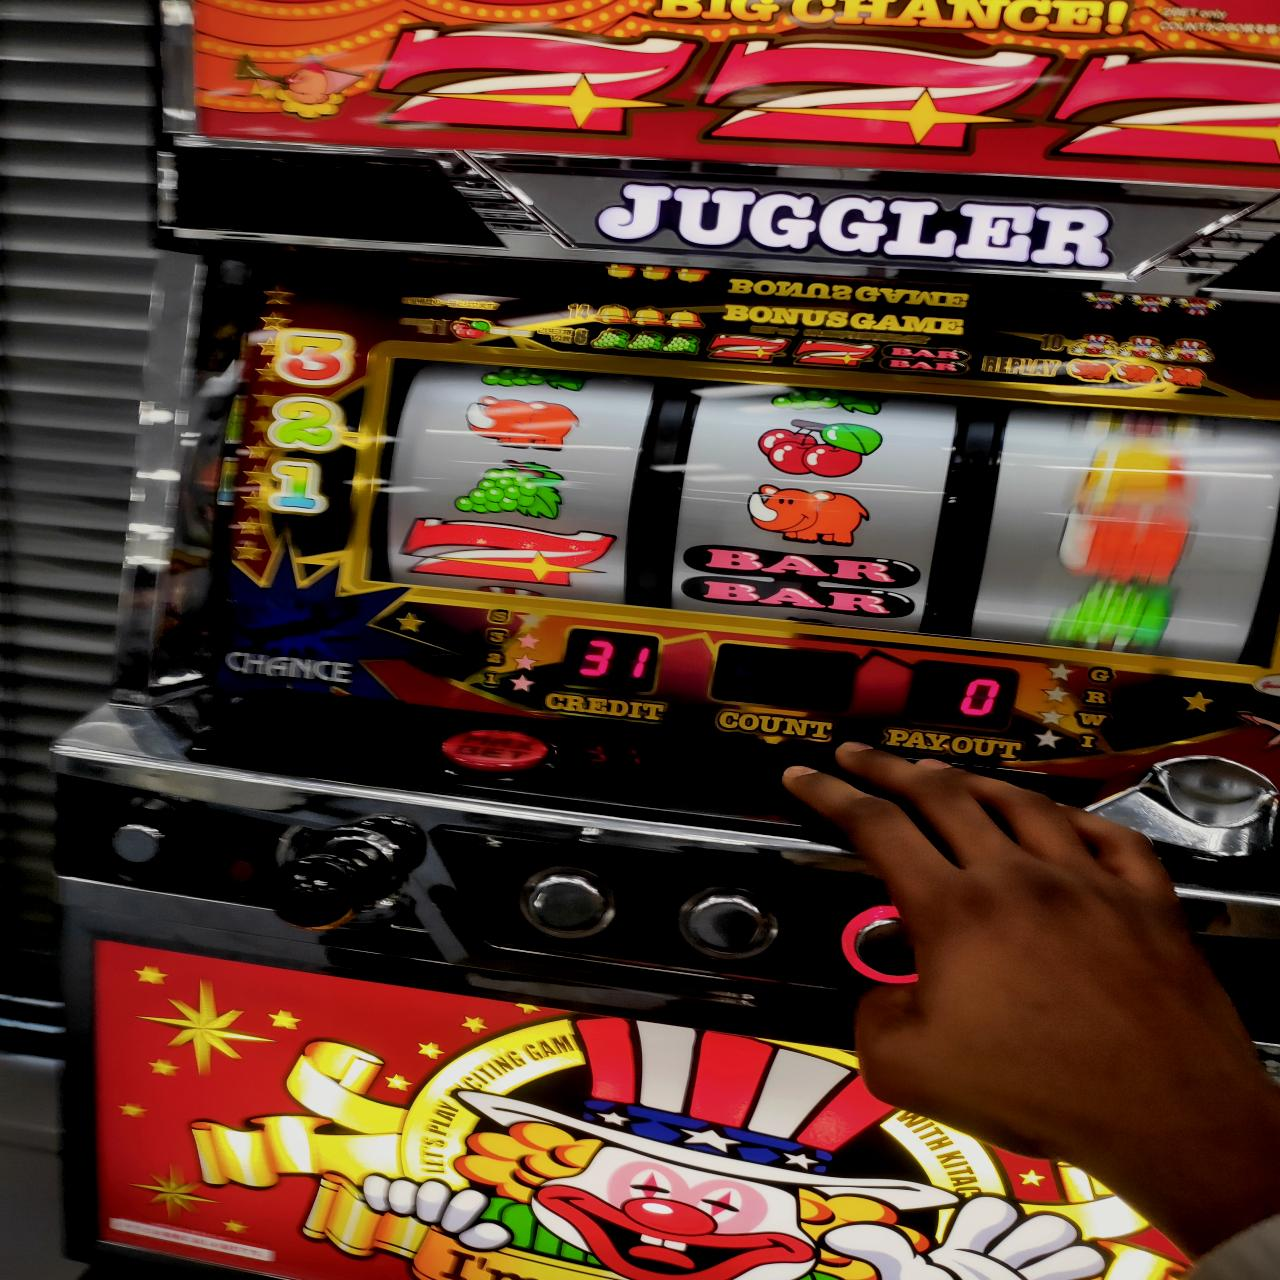7: (400, 518, 608, 587)
8: (744, 483, 871, 546), (467, 397, 587, 449)
bar: (680, 545, 920, 619)
cherry: (751, 418, 891, 477)
grape: (454, 459, 566, 518)
rhino: (361, 360, 1280, 668)
